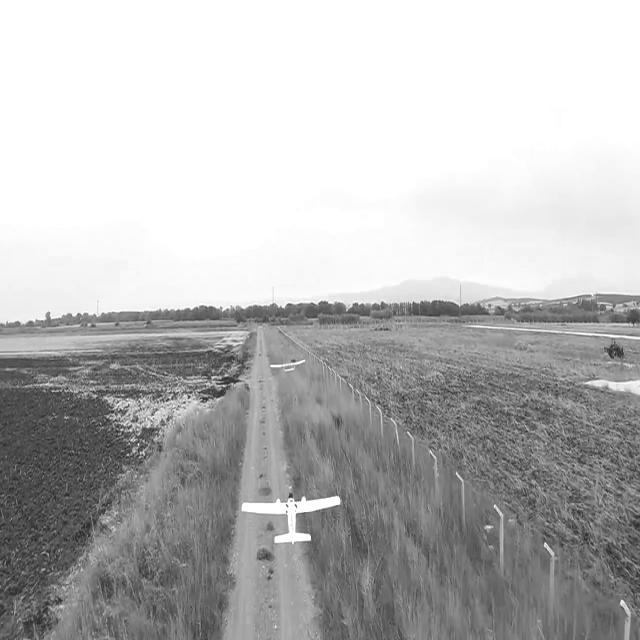iha: (266, 352, 306, 378), (266, 513, 313, 516)
